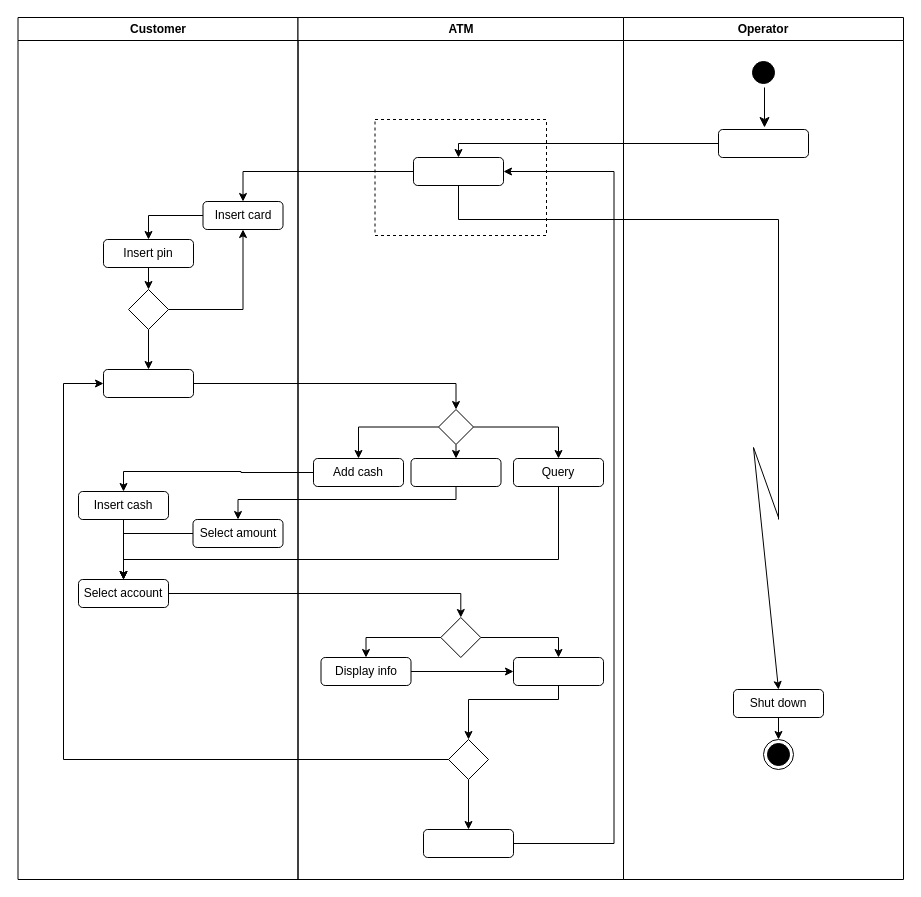
Some shapes in this 921 by 897 pixel diagram are drawn without their labels. Each missing label, with the centre of its shape:
Eject card: [468,843]
idle: [458,171]
Print receipt: [558,671]
Select option: [148,383]
Startup: [763,143]
Transfer funds: [455,472]
